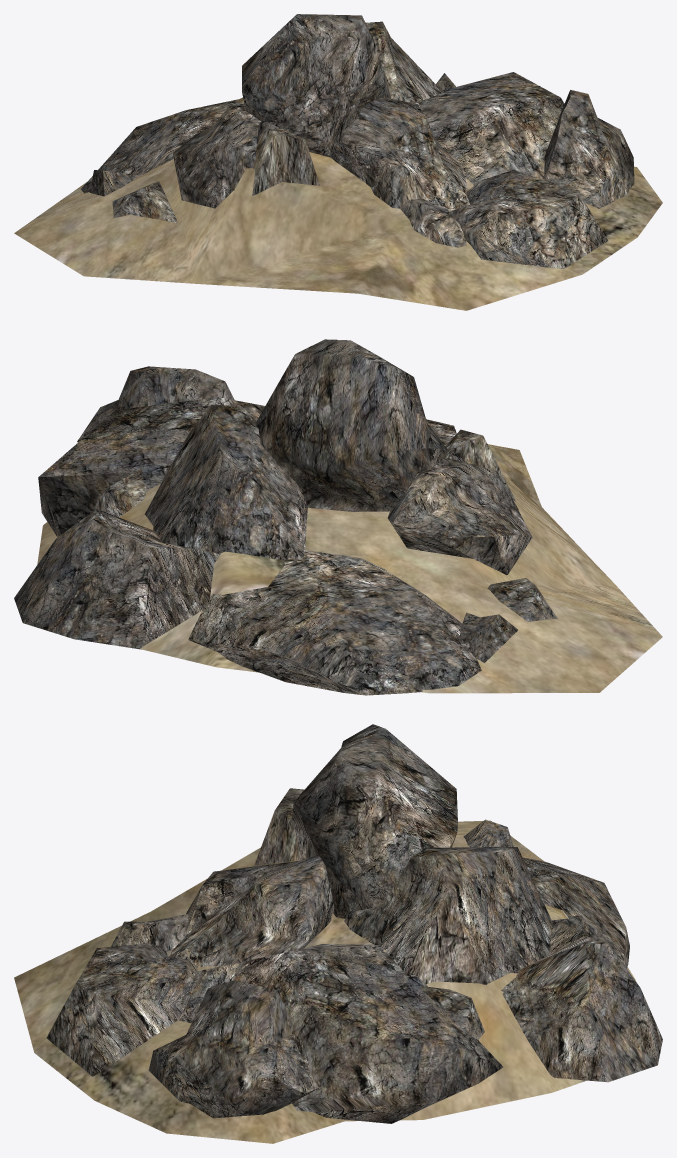
The model's file is pir_m_prp_cav_rockPile.fbx.
3 views of the same model, one above another, from view 1: azimuth 30°, elevation 25°; view 2: azimuth 150°, elevation 25°; view 3: azimuth 270°, elevation 25° (orthographic). The views are drawn at different scales.
Parts seen in each view (by area): view 1: dirt, rock_11, rock_2, rock_4, rock_13, rock_3, rock_6, rock_5, rock_14, rock_12, rock_10, rock_7 (+1 smaller); view 2: dirt, rock_5, rock_11, rock_1, rock_12, rock_2, rock_6, rock_3, rock_9, rock_7, rock_14, rock_8; view 3: rock_2, dirt, rock_12, rock_11, rock_1, rock_3, rock_13, rock_4, rock_5, rock_14, rock_10, rock_8 (+1 smaller).
Boxes of the visible parts, left/top/right/bottom form: dirt: left=14, top=97, right=662, bottom=310; rock_11: left=242, top=14, right=391, bottom=157; rock_2: left=420, top=72, right=564, bottom=185; rock_4: left=447, top=170, right=607, bottom=269; rock_13: left=330, top=97, right=469, bottom=210; rock_3: left=544, top=90, right=634, bottom=208; rock_6: left=173, top=105, right=261, bottom=208; rock_5: left=81, top=99, right=244, bottom=193; rock_14: left=252, top=120, right=319, bottom=195; rock_12: left=366, top=21, right=443, bottom=105; rock_10: left=400, top=198, right=466, bottom=247; rock_7: left=112, top=181, right=177, bottom=222; dirt: left=37, top=444, right=662, bottom=693; rock_5: left=188, top=550, right=481, bottom=695; rock_11: left=255, top=339, right=448, bottom=511; rock_1: left=14, top=509, right=220, bottom=649; rock_12: left=144, top=404, right=307, bottom=560; rock_2: left=38, top=397, right=264, bottom=537; rock_6: left=388, top=457, right=532, bottom=574; rock_3: left=77, top=366, right=234, bottom=442; rock_9: left=459, top=612, right=517, bottom=662; rock_7: left=487, top=578, right=557, bottom=621; rock_14: left=445, top=429, right=515, bottom=501; rock_8: left=93, top=468, right=145, bottom=517; rock_2: left=178, top=944, right=503, bottom=1123; dirt: left=14, top=820, right=635, bottom=1143; rock_12: left=344, top=847, right=552, bottom=984; rock_11: left=292, top=724, right=457, bottom=918; rock_1: left=501, top=917, right=662, bottom=1082; rock_3: left=148, top=980, right=318, bottom=1118; rock_13: left=168, top=854, right=334, bottom=967; rock_4: left=46, top=943, right=197, bottom=1076; rock_5: left=522, top=857, right=629, bottom=968; rock_14: left=254, top=788, right=304, bottom=865; rock_10: left=111, top=914, right=188, bottom=951; rock_8: left=419, top=986, right=484, bottom=1039.
Bounding box in the file's own units: 1713 × 590 × 1453.
2 materials, 2 textured.
